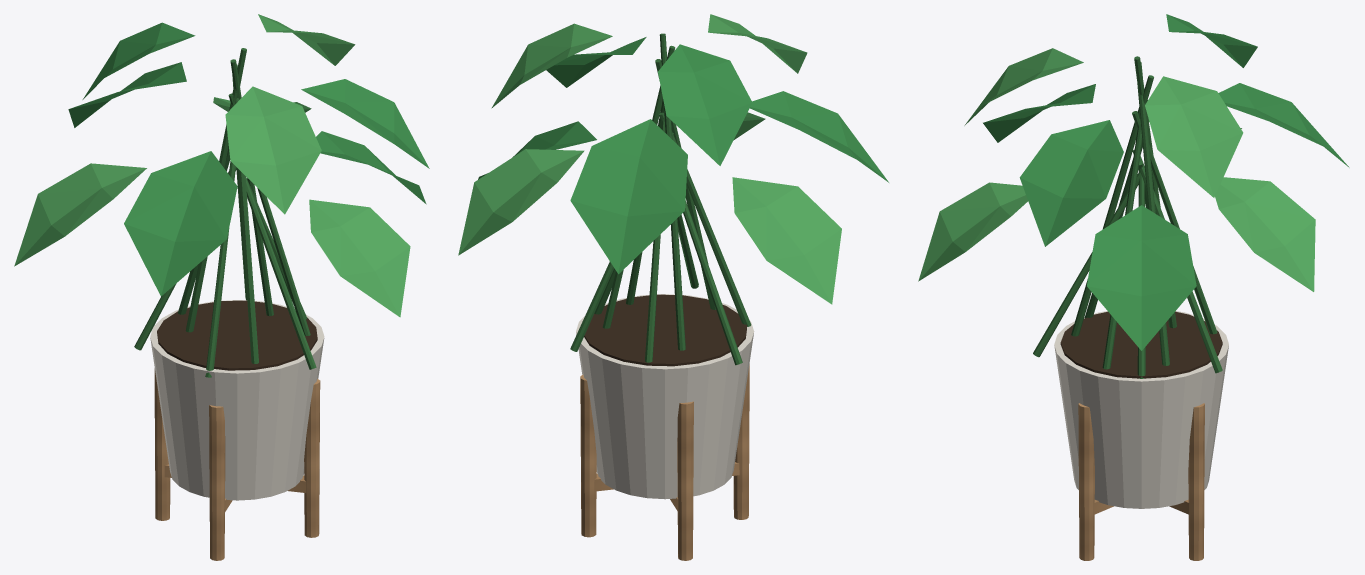
Rendered from indoor_plant.obj.
The picture shows the model from 3 angles, left to right: view 1: azimuth 30°, elevation 25°; view 2: azimuth 150°, elevation 25°; view 3: azimuth 270°, elevation 25°; orthographic projection. The views are drawn at different scales.
Parts seen in each view (by area): view 1: CeramicPot, Leaf_4, Leaf_8, SoilSurface, Leaf_5, Leaf_3, Leaf_9, StandLeg_2, StandLeg_3, Leaf_7, Leaf_2, Leaf_0 (+9 smaller); view 2: CeramicPot, Leaf_2, Leaf_3, SoilSurface, Leaf_7, Leaf_1, Leaf_4, Leaf_6, StandLeg_1, StandLeg_0, StandLeg_2, Leaf_9 (+10 smaller); view 3: CeramicPot, Leaf_0, Leaf_9, Leaf_6, Leaf_1, SoilSurface, Leaf_5, Leaf_2, StandLeg_0, StandLeg_3, Leaf_8, Leaf_4 (+8 smaller).
Boxes of the visible parts, x1,y1,x2,y2 form: CeramicPot: [150, 300, 324, 500]; Leaf_4: [124, 151, 237, 296]; Leaf_8: [225, 86, 321, 214]; SoilSurface: [157, 300, 317, 370]; Leaf_5: [309, 199, 410, 317]; Leaf_3: [14, 163, 146, 266]; Leaf_9: [301, 79, 429, 168]; StandLeg_2: [209, 405, 225, 560]; StandLeg_3: [304, 378, 320, 537]; Leaf_7: [82, 22, 195, 99]; Leaf_2: [68, 62, 186, 127]; Leaf_0: [316, 131, 426, 204]; CeramicPot: [576, 294, 754, 499]; Leaf_2: [570, 119, 687, 274]; Leaf_3: [732, 177, 841, 304]; SoilSurface: [584, 294, 746, 366]; Leaf_7: [658, 44, 752, 165]; Leaf_1: [458, 149, 584, 255]; Leaf_4: [750, 91, 888, 182]; Leaf_6: [491, 23, 612, 108]; StandLeg_1: [677, 401, 693, 560]; StandLeg_0: [580, 374, 596, 537]; StandLeg_2: [733, 364, 749, 519]; Leaf_9: [546, 37, 646, 87]; CeramicPot: [1054, 311, 1228, 508]; Leaf_0: [1087, 205, 1196, 350]; Leaf_9: [1019, 120, 1123, 246]; Leaf_6: [1145, 76, 1243, 197]; Leaf_1: [1215, 177, 1315, 291]; SoilSurface: [1060, 311, 1222, 378]; Leaf_5: [918, 182, 1027, 281]; Leaf_2: [1218, 83, 1349, 167]; StandLeg_0: [1188, 403, 1204, 560]; StandLeg_3: [1078, 403, 1094, 560]; Leaf_8: [964, 48, 1083, 125]; Leaf_4: [983, 84, 1095, 142].
Bounding box in the file's own units: 0.8869 × 1.08 × 0.8654.
6 materials, 1 textured.
